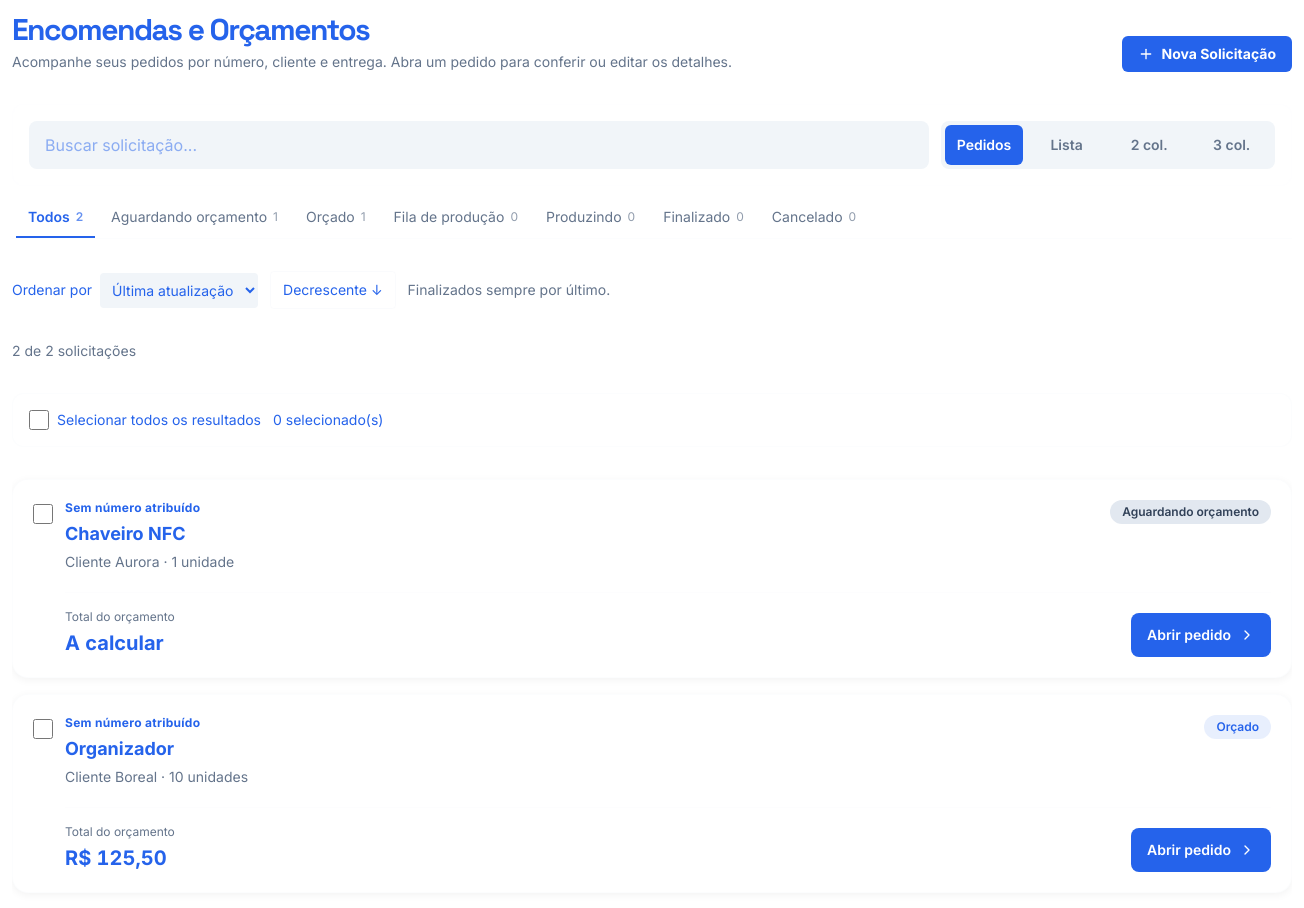
Test: busca por cliente e filtro de status são preservados ao alternar lista, duas e três caixas, incluindo resultado vazio
The image size is (1304, 908).
In the field with placeholder "Buscar solicitação...": (479, 145) [29,121,929,169], type " boreal "
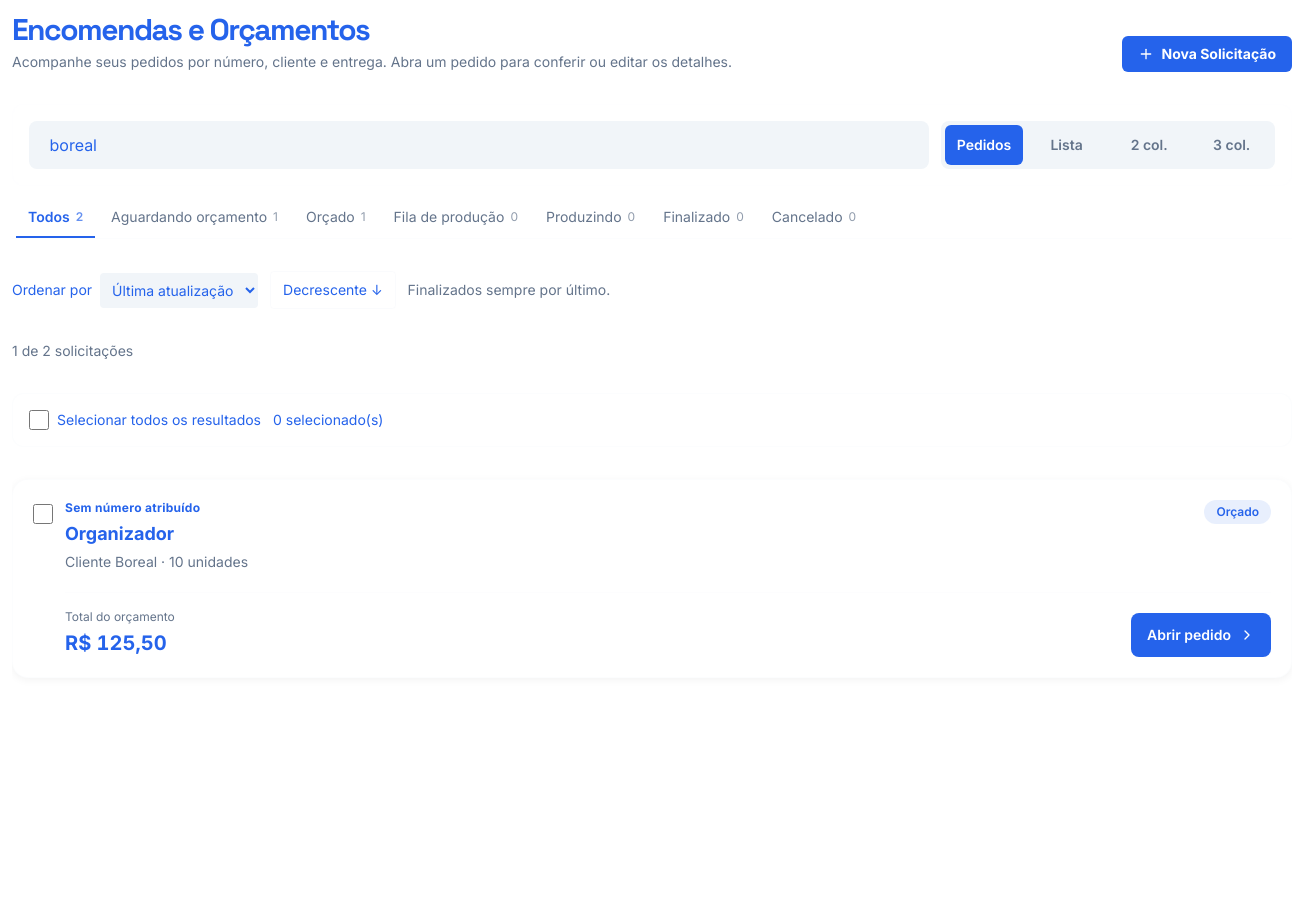
Click the button "Orçado 1": (336, 218) [294,198,378,238]
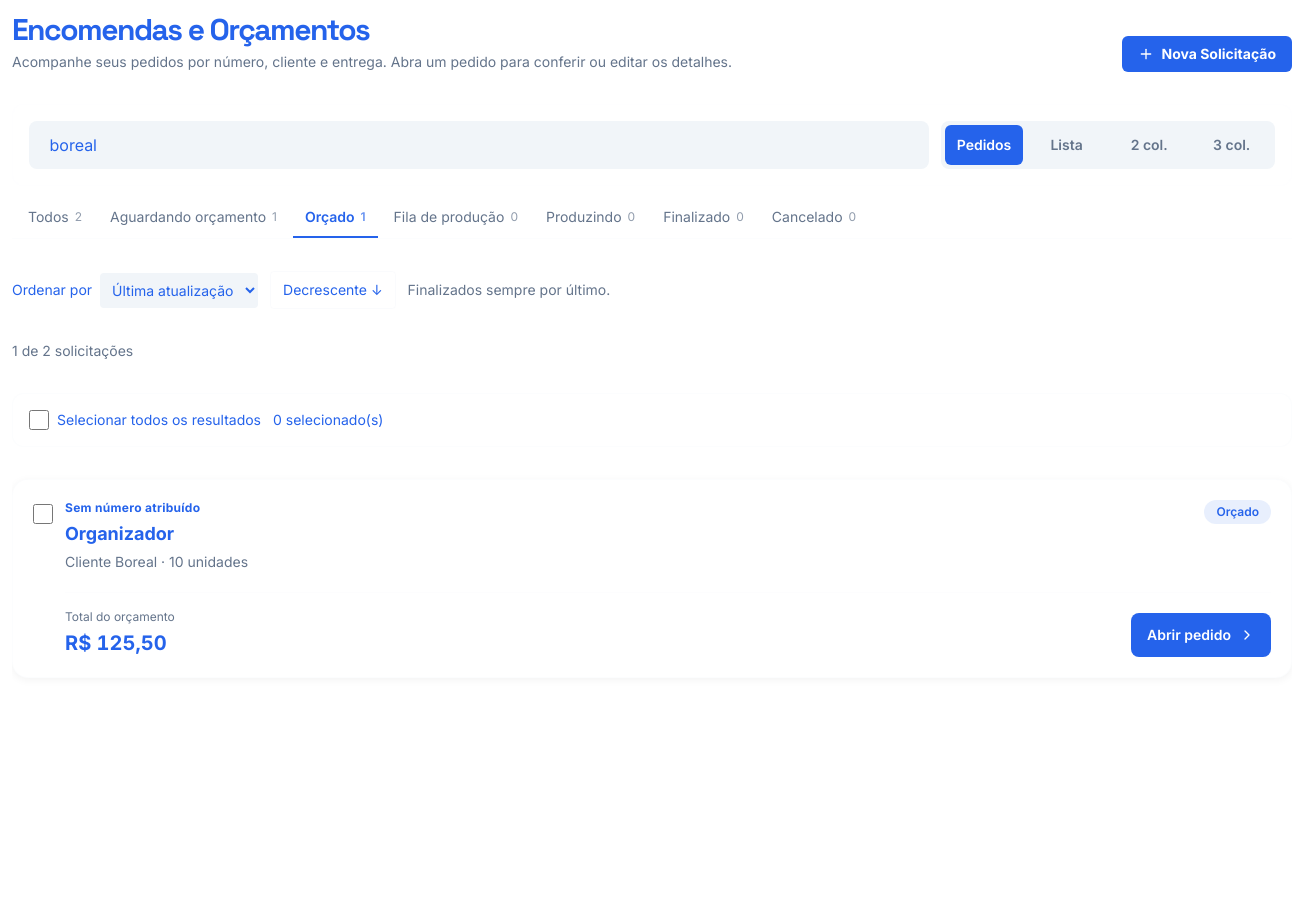
Expected: the button "Chaveiro NFC" is not shown
Now the message reads "1 de 2 solicitações", box [12,342,133,359]
Click the button with aria-label "2 caixas": (1149, 145) [1110,125,1188,165]
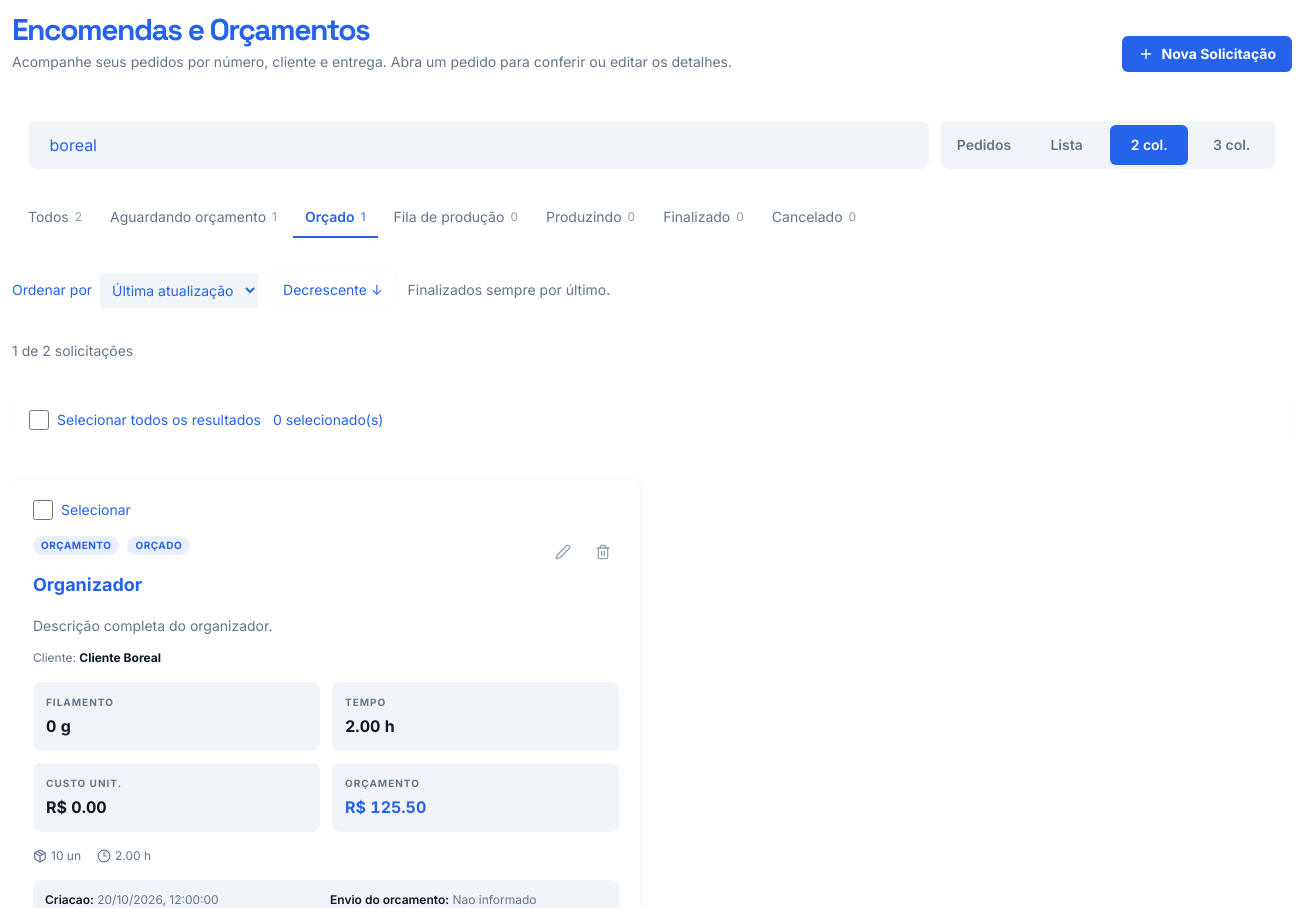
Now the heading "Organizador" is shown, box [33,563,142,607]
Now the text "Descrição completa do organizador." is shown, box [33,615,272,638]
Click the button with aria-label "3 caixas": (1232, 145) [1192,125,1271,165]
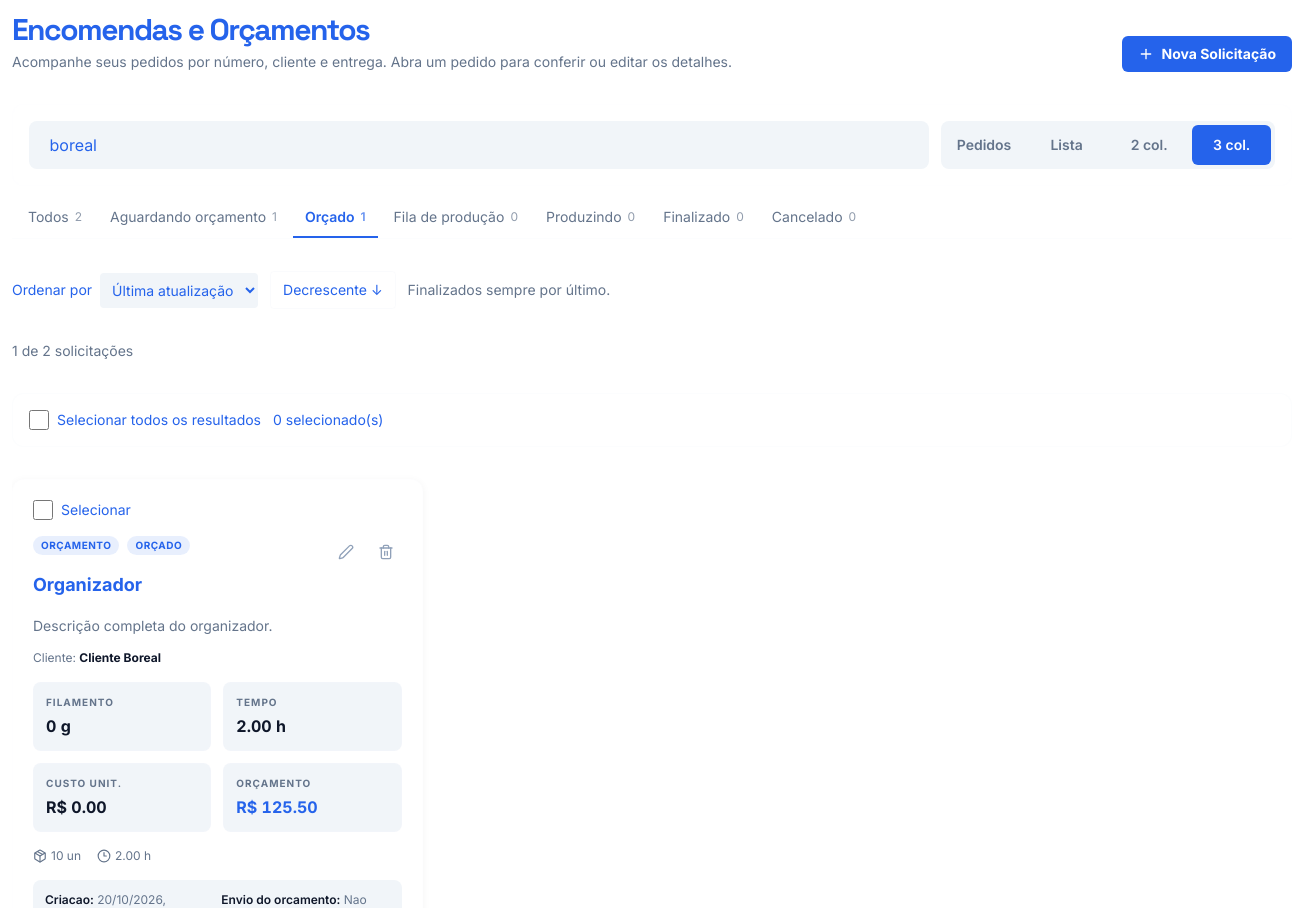
Expected: the button "Chaveiro NFC" is not shown
Now the heading "Organizador" is shown, box [33,563,142,607]
Now the message reads "1 de 2 solicitações", box [12,342,133,359]
Click the button with aria-label "Lista simplificada": (1067, 145) [1027,125,1106,165]
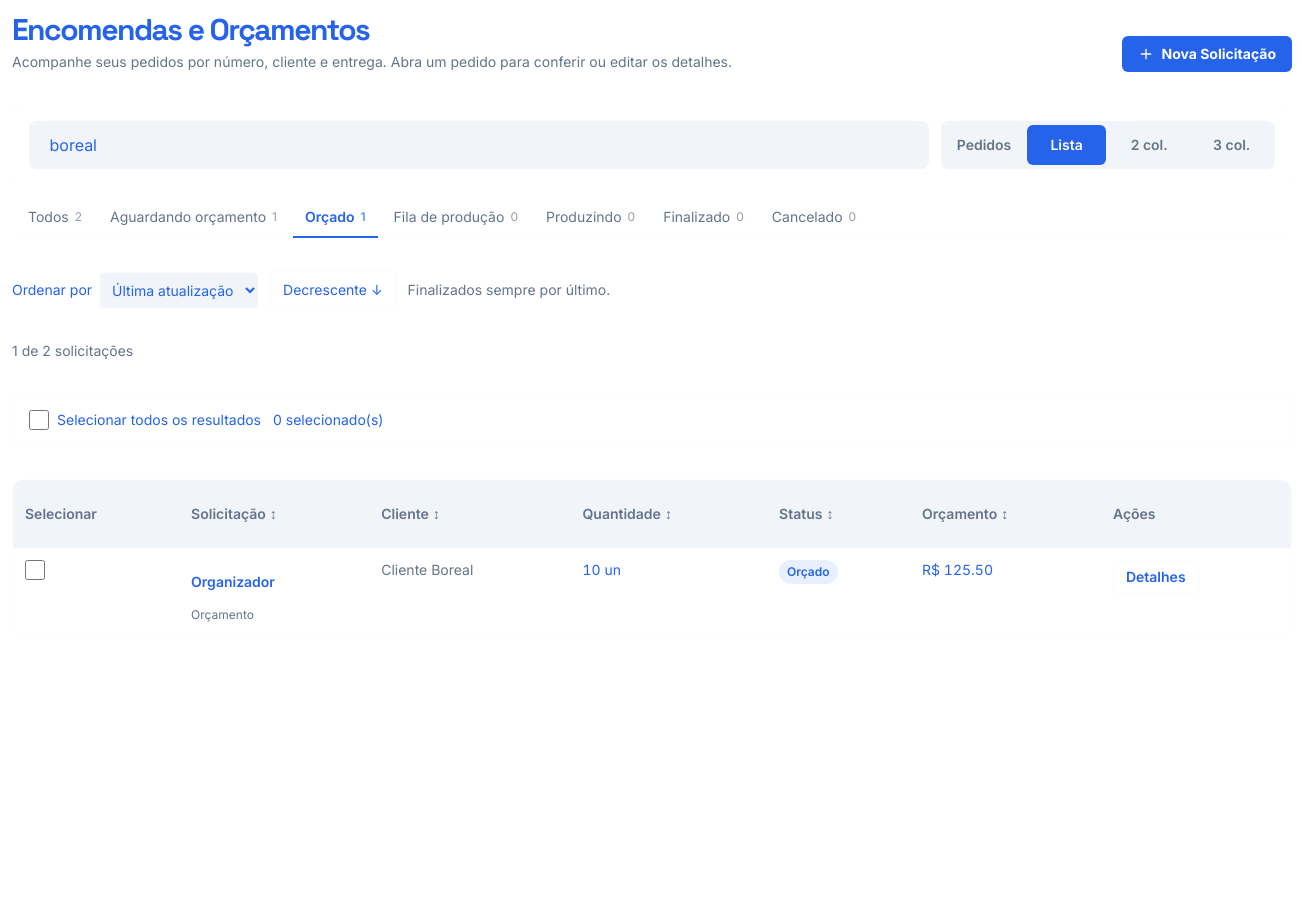
Now the message reads "1 de 2 solicitações", box [12,342,133,359]
Click the button "Finalizado 0": (703, 218) [651,198,756,238]
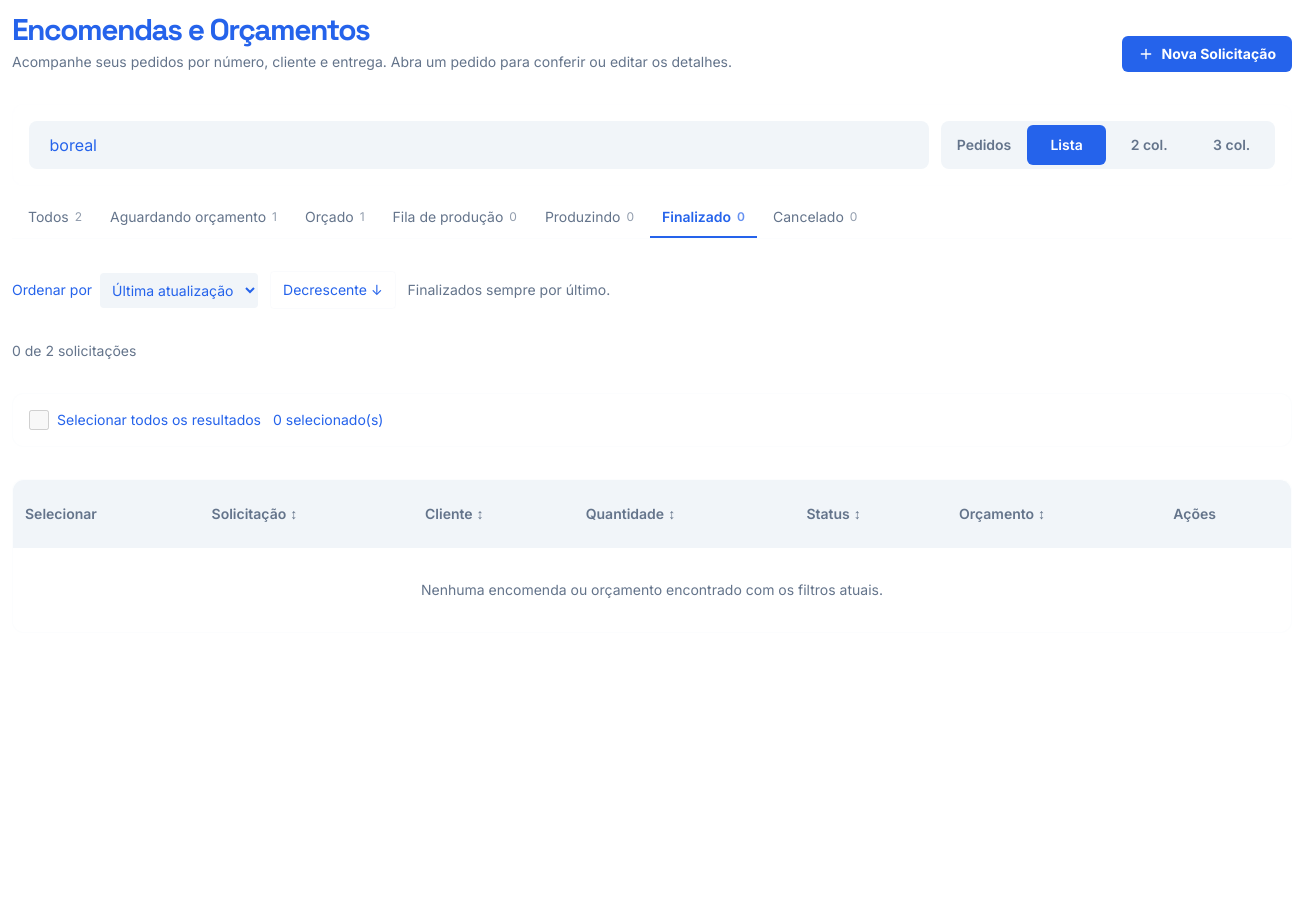
Now the text "Nenhuma encomenda ou orçamento encontrado com os filtros atuais." is shown, box [13,548,1291,632]
